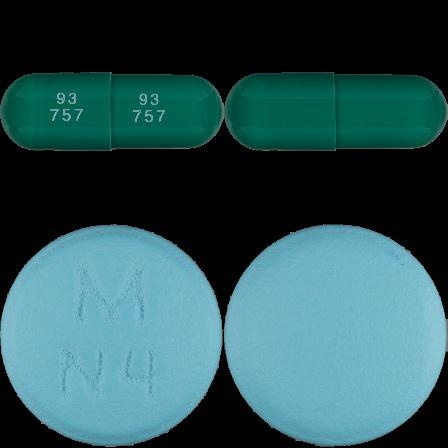55289-052: (0, 0, 224, 224)
